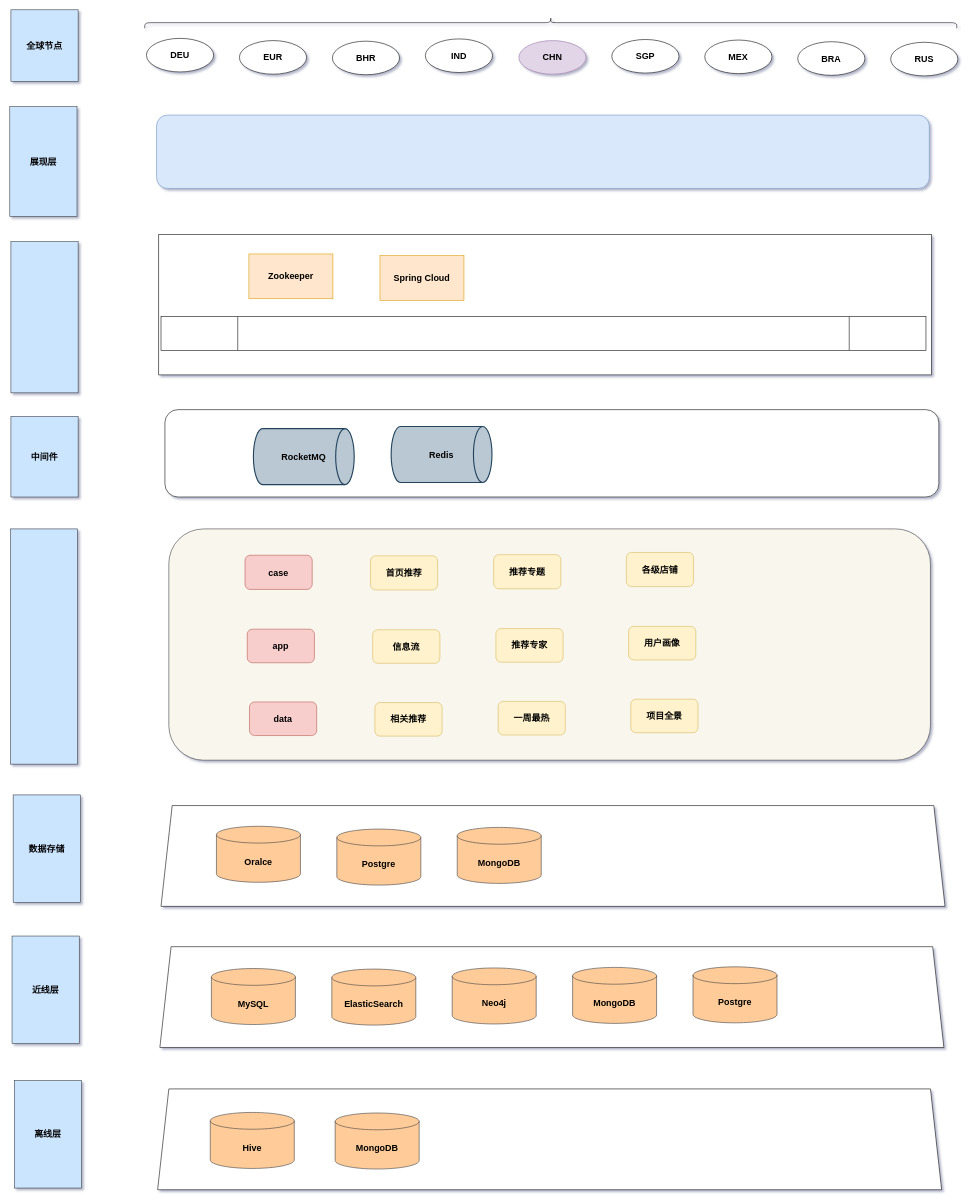
Image size: 971x1203. Some labels were removed from this diagram. The centre of each missing label's shape, as x and y in pixels:
"Web、vue" belongs at point (542, 151).
"服务包" belongs at point (44, 646).
"服务治理" belongs at point (44, 317).
"网关、服务注册与发现、配置中心、路由、集群监控、链路跟踪" belongs at point (543, 333).
